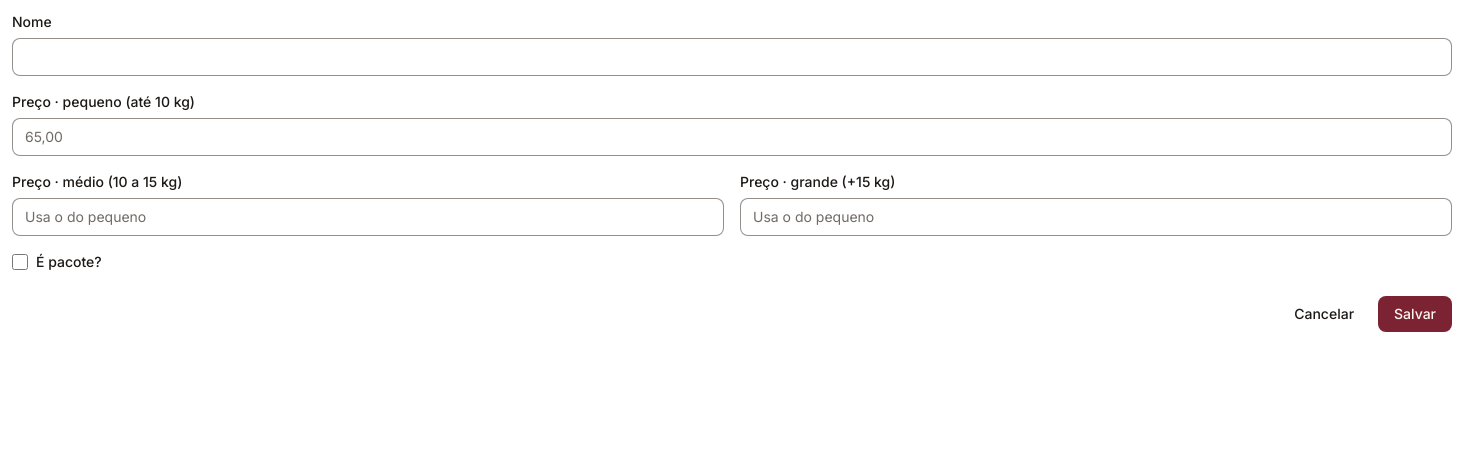
Test: ServicoForm › exige créditos quando é pacote
The width and height of the screenshot is (1464, 451).
Type "Pacote Fidelidade" into the field labelled "Nome".
click(732, 57); type("Pacote Fidelidade")  # box [12,38,1452,76]
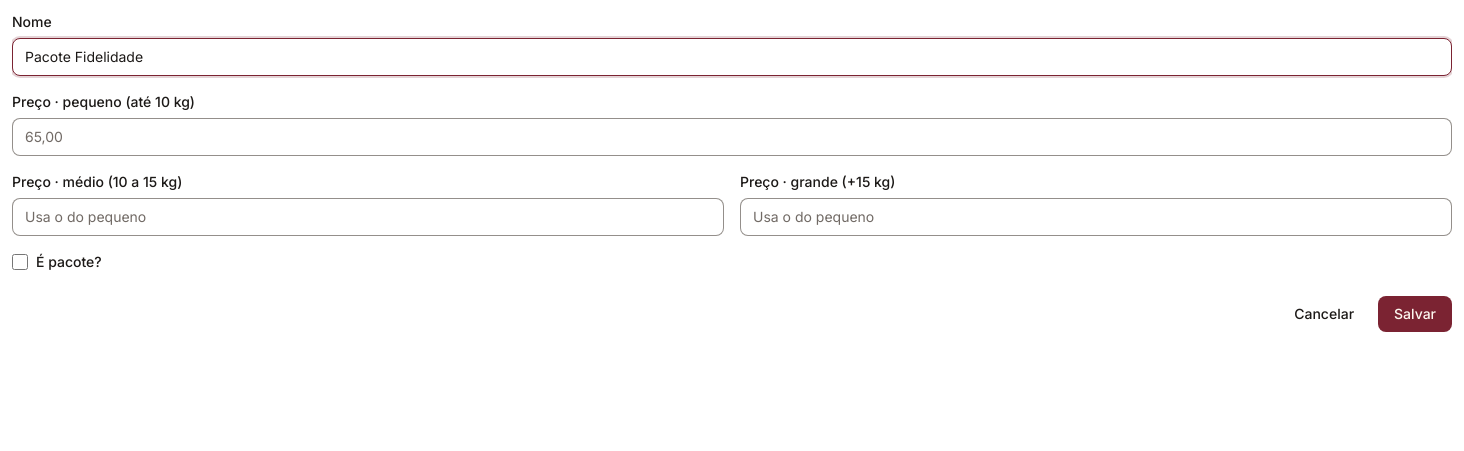
Type "220.00" into the field labelled "Preço · pequeno (até 10 kg)".
click(732, 137); type("220.00")  # box [12,118,1452,156]
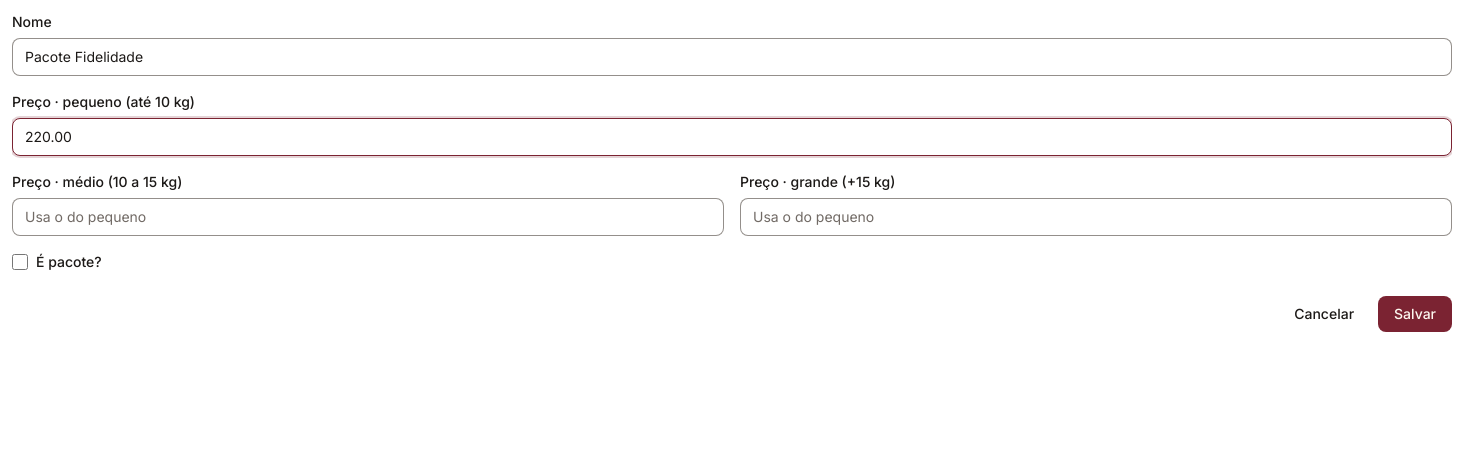
Click the checkbox labelled "É pacote?".
click(20, 262)  # box [12,254,28,270]
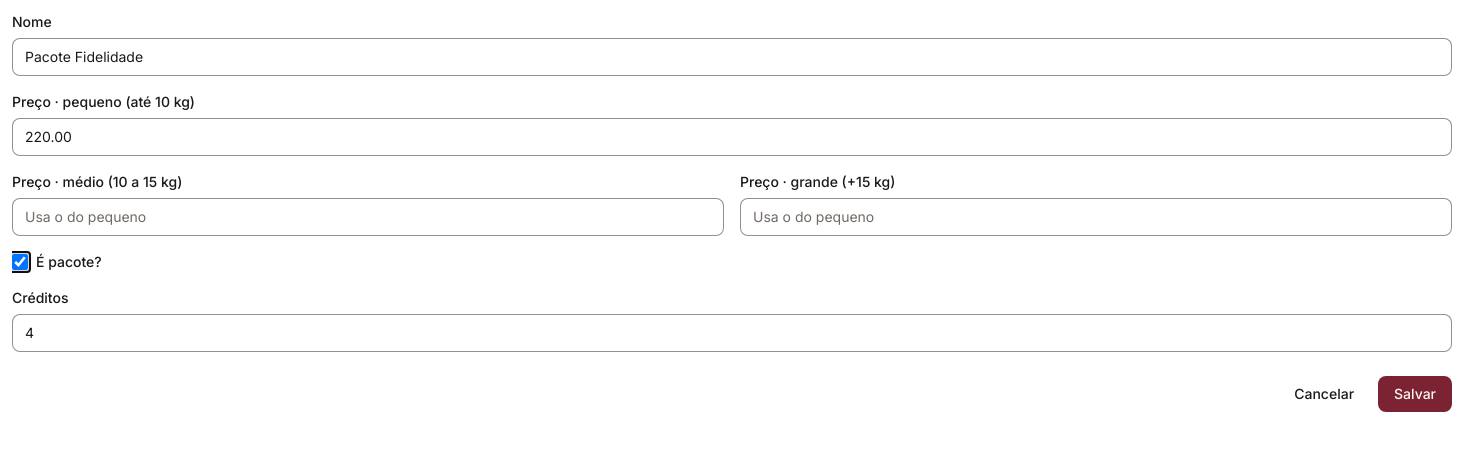
Clear the number field labelled "Créditos" at (732, 333), box [12,314,1452,352]
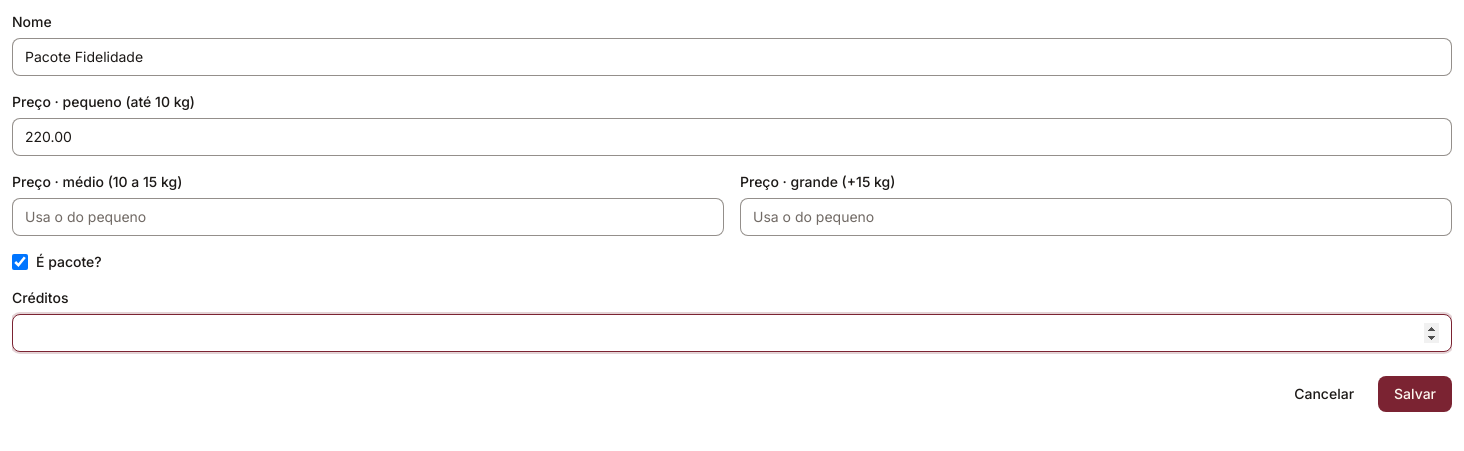
Click the button "Salvar".
click(1415, 394)  # box [1378,376,1452,412]
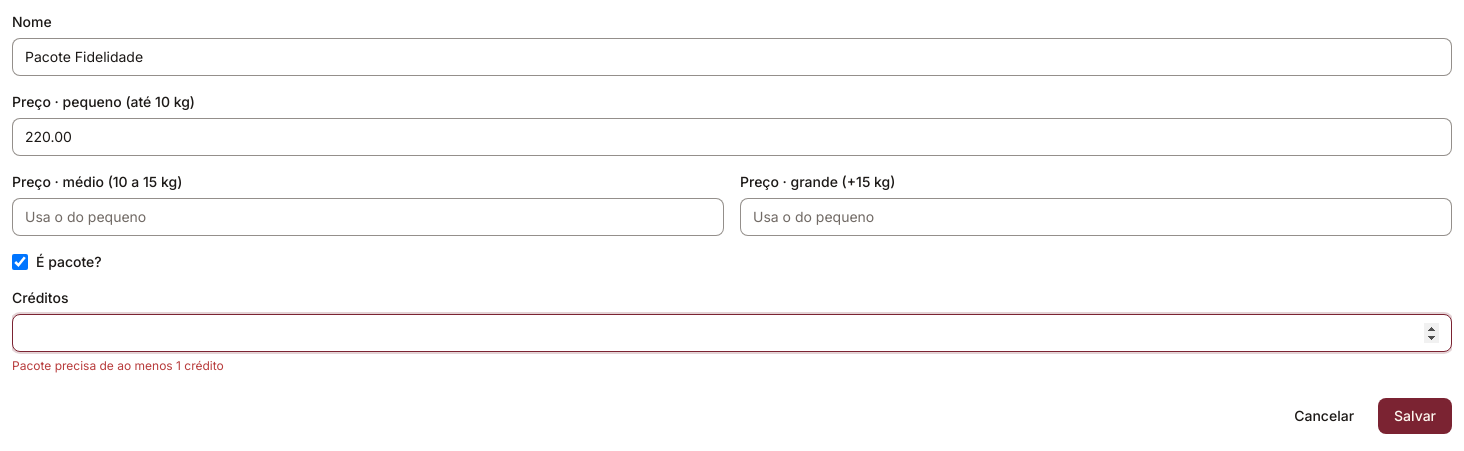
Expected: the text "Pacote precisa de ao menos 1 crédito" is shown, [12,358,224,373]
